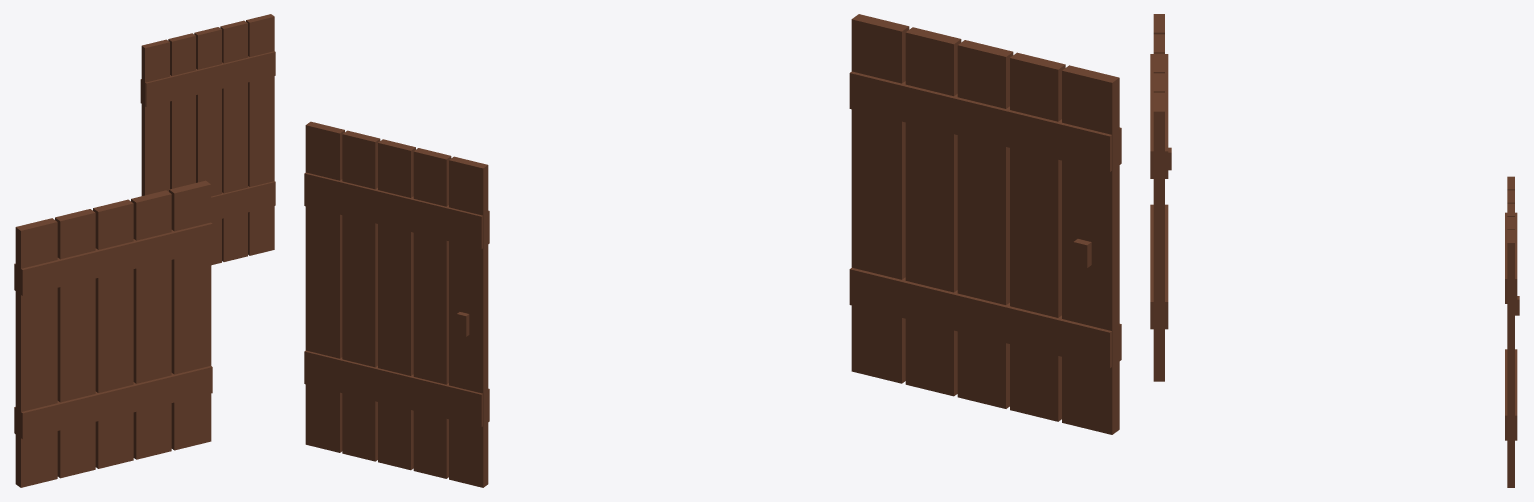
The model's file is door_closed.glb.
3 views of the same model, side by side, from view 1: azimuth 30°, elevation 25°; view 2: azimuth 150°, elevation 25°; view 3: azimuth 270°, elevation 25° (orthographic). The views are drawn at different scales.
Parts seen in each view (by area): view 1: Door.Closed_tcollider.001, Door.Closed_tcollider; view 2: Door.Closed_tcollider.001, Door.Closed_tcollider; view 3: Door.Closed_tcollider.001, Door.Closed_tcollider.
Boxes of the visible parts, x1,y1,x2,y2 form: Door.Closed_tcollider.001: (14, 180, 212, 487); Door.Closed_tcollider: (140, 14, 275, 265); Door.Closed_tcollider.001: (849, 14, 1121, 434); Door.Closed_tcollider: (304, 121, 489, 487); Door.Closed_tcollider.001: (1150, 14, 1171, 381); Door.Closed_tcollider: (1505, 176, 1519, 487).
Bounding box in the file's own units: 1.46 × 0.8503 × 1.05.
